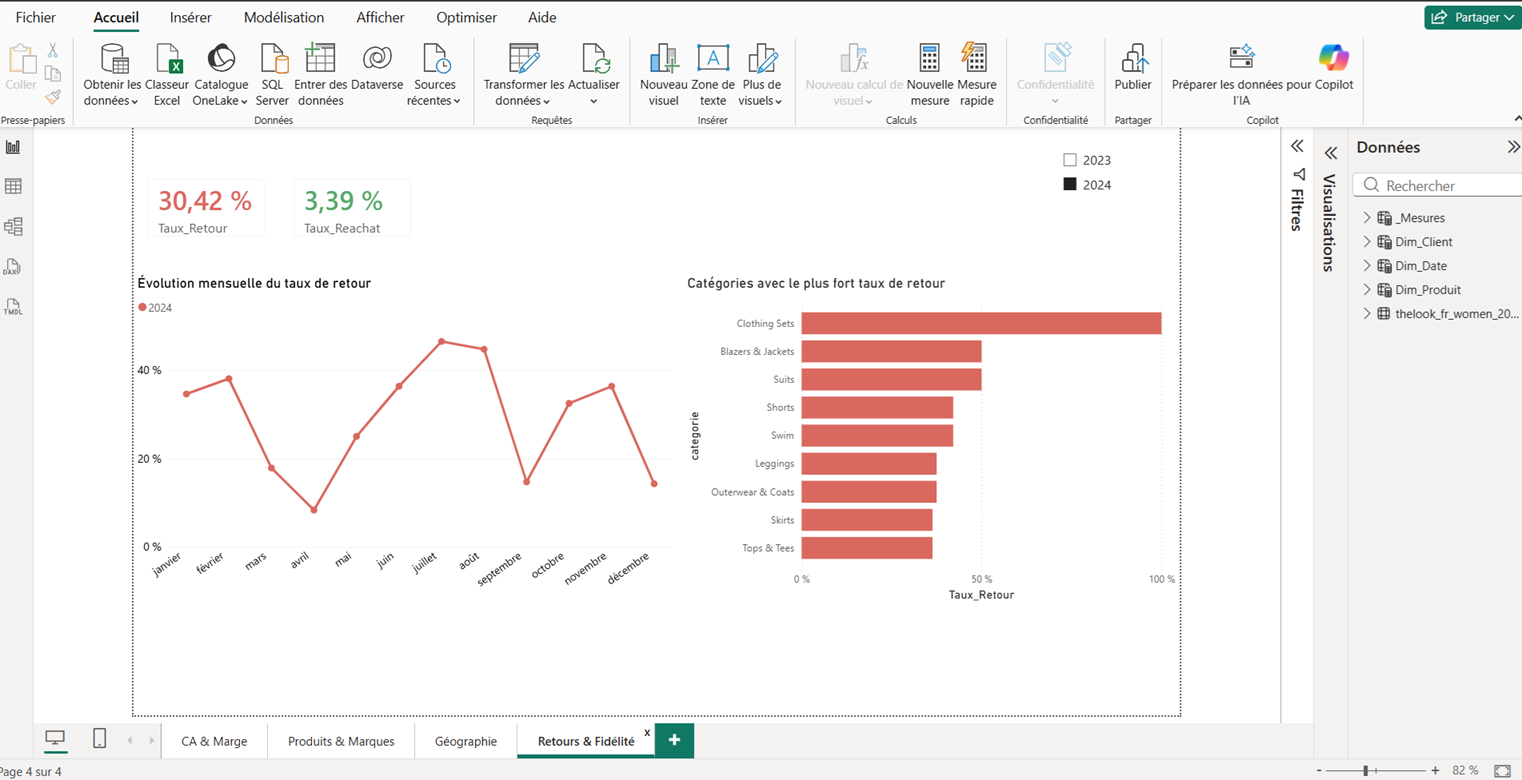

What the dashboard file says about the page in this screenshot:
{"tool":"powerbi","page":{"name":"Retours & Fidélité","canvas":[1280,720],"ordinal":3},"visuals":[{"type":"slicer","fields":{"Values":["Dim_Date.Année","Dim_Date.Année"]},"box":[1100.5,20.6,163.3,78.2],"z":0},{"type":"cardVisual","fields":{"Data":["_Mesures.Taux_Retour"]},"box":[0,46.7,178.4,105.7],"z":1000},{"type":"cardVisual","fields":{"Data":["_Mesures.Taux_Reachat"]},"box":[178.4,46.7,178.4,105.7],"z":2000},{"type":"lineChart","title":"Évolution mensuelle du taux de retour","fields":{"Category":["Dim_Date.Nom_Mois"],"Series":["Dim_Date.Année"],"Y":["_Mesures.Taux_Retour"]},"box":[0,181.1,662.8,404.8],"z":3000},{"type":"clusteredBarChart","title":"Catégories avec le plus fort taux de retour","fields":{"Category":["Dim_Produit.categorie"],"Y":["_Mesures.Taux_Retour"]},"box":[673,181,607,405],"z":4000}]}

Visuals, with their boxes on the page's 1280x720 design canvas (x1, y1, x2, y2). These are canvas units, not pixel positions in the 1522x780 screenshot, which may show the page scaled, cropped or inside an application window:
slicer - Dim_Date.Année x Dim_Date.Année: 1100/21/1264/99
cardVisual - _Mesures.Taux_Retour: 0/47/178/152
cardVisual - _Mesures.Taux_Reachat: 178/47/357/152
"Évolution mensuelle du taux de retour" lineChart: 0/181/663/586
"Catégories avec le plus fort taux de retour" clusteredBarChart: 673/181/1280/586
